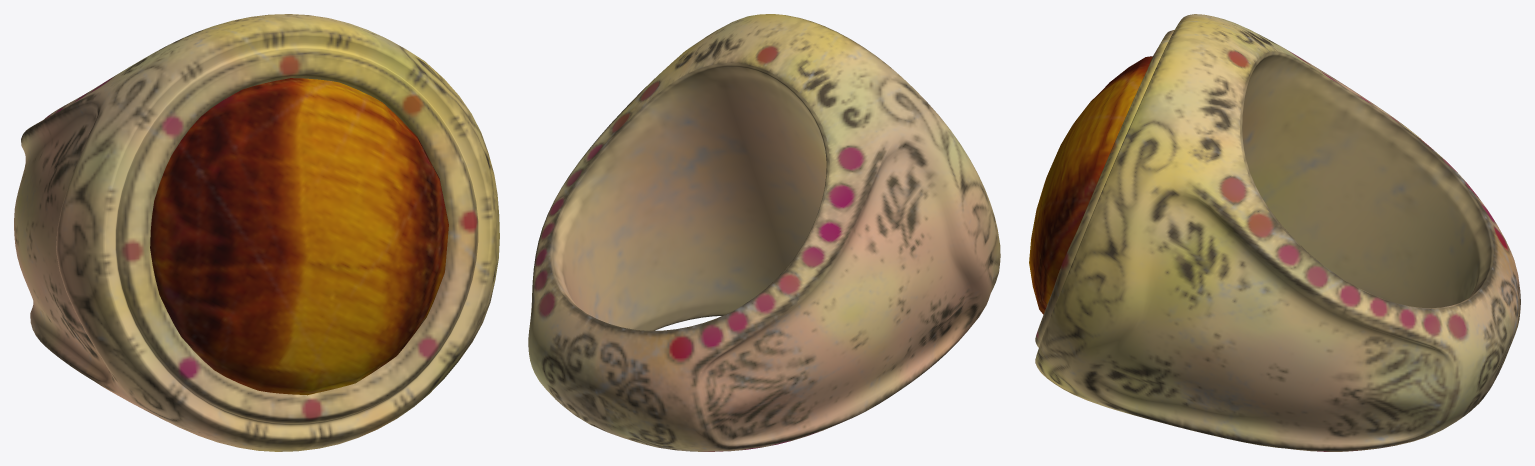
File: yüzük_v3_re-oriented.fbx
3 views of the same model, side by side, from view 1: azimuth 30°, elevation 25°; view 2: azimuth 150°, elevation 25°; view 3: azimuth 270°, elevation 25° (orthographic). The views are drawn at different scales.
Visible parts, largest first — view 1: ring_low_reoirented; view 2: ring_low_reoirented; view 3: ring_low_reoirented.
Boxes of the visible parts, x1,y1,x2,y2 form: ring_low_reoirented: (14, 14, 499, 451); ring_low_reoirented: (528, 14, 1000, 451); ring_low_reoirented: (1029, 14, 1520, 451).
Size of the model in its own units: 1.86 by 2.09 by 1.66.
